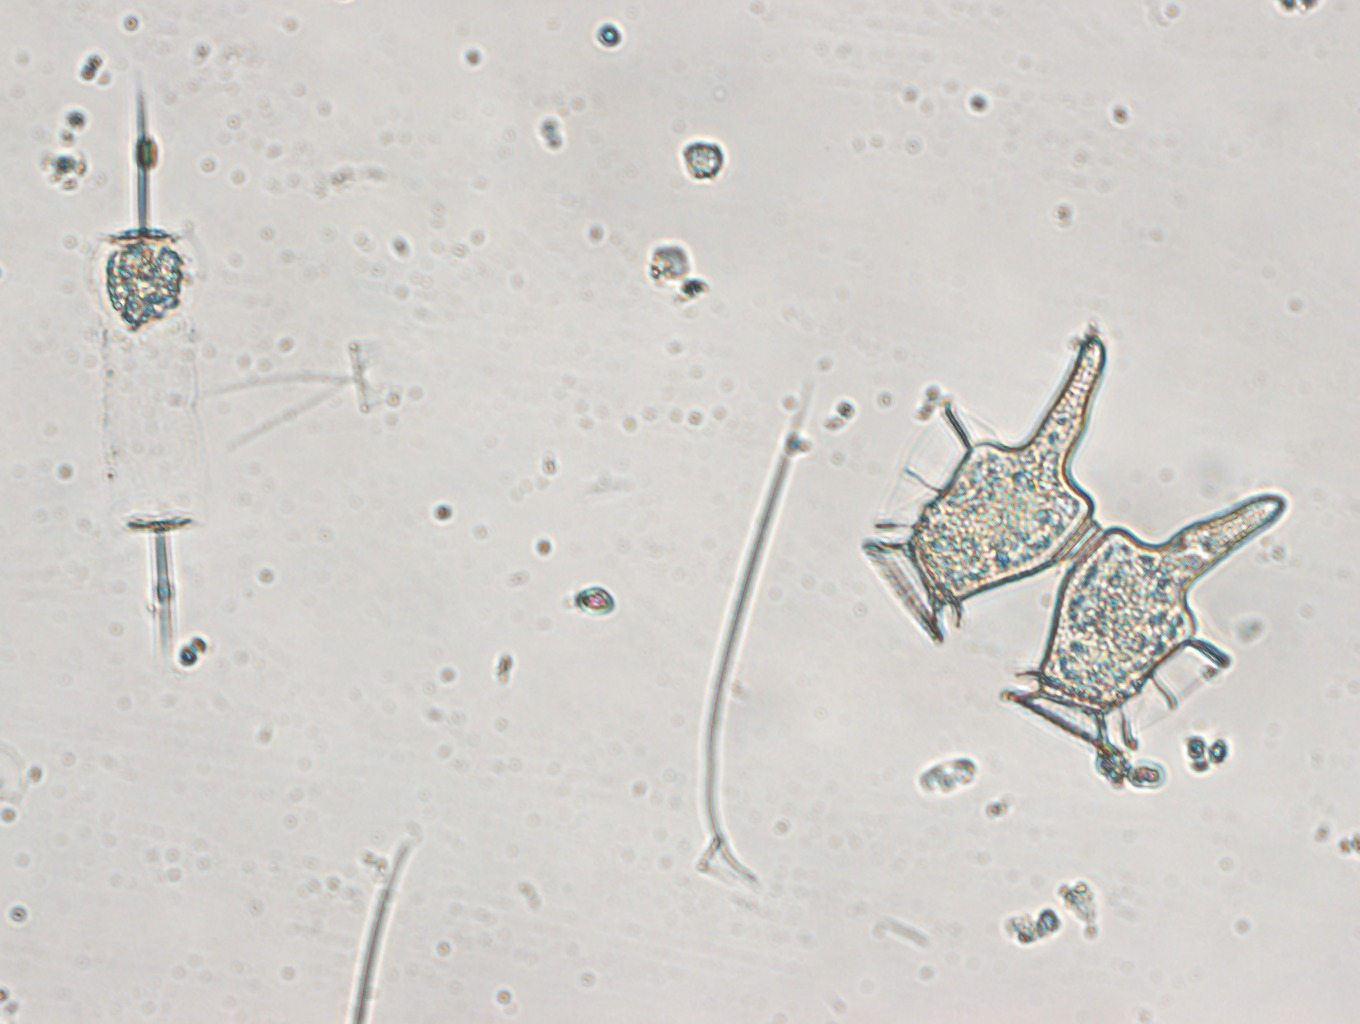dinophysis caudata: (854, 317, 1291, 730)
